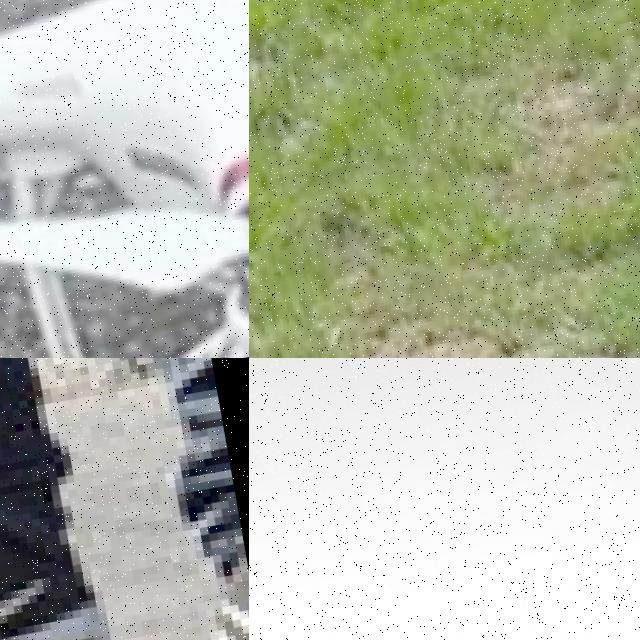drone: (249, 358, 640, 640), (0, 0, 249, 358)
